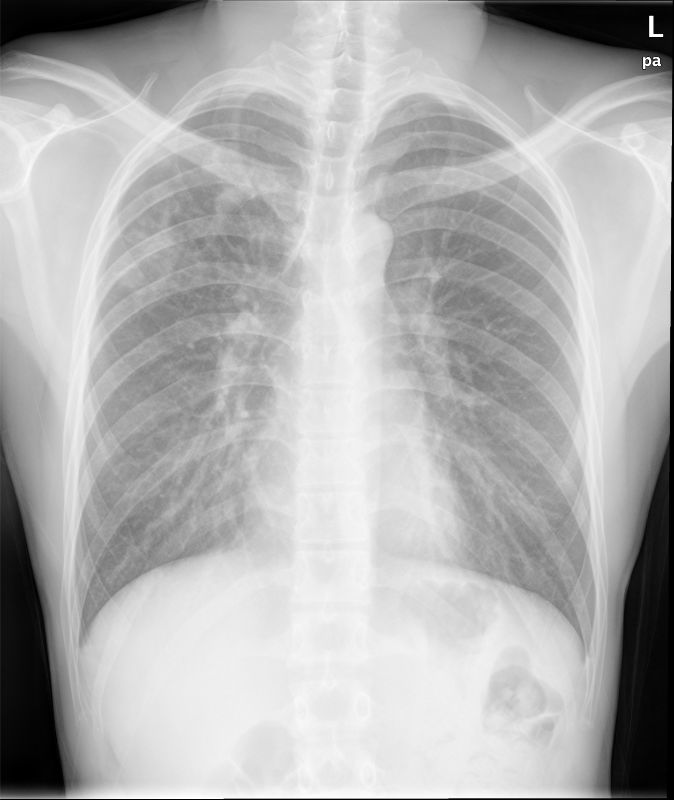Tuberculosis (TB): (112, 233, 203, 339), (212, 163, 267, 226)
